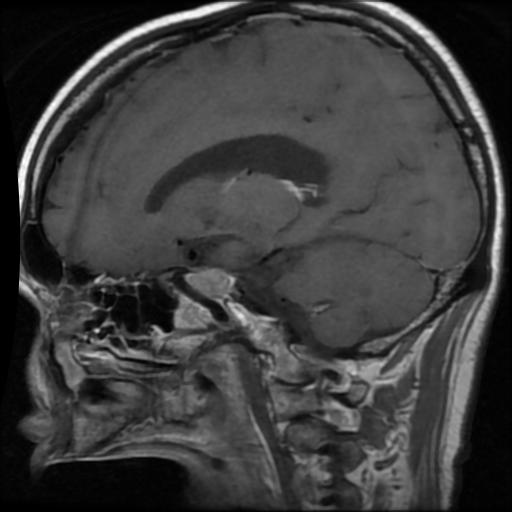Pituirity_tumour: (182, 265, 229, 299)
